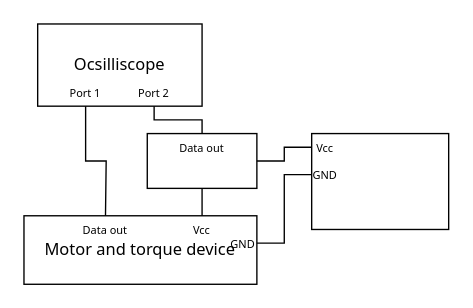
This 473x308 diagram has some shape labels left out. The box of each missing label's shape, as (x1, y1, x2, y2) in pixels:
Am meter: (146, 132, 257, 188)
Voltage generator: (310, 132, 449, 229)
